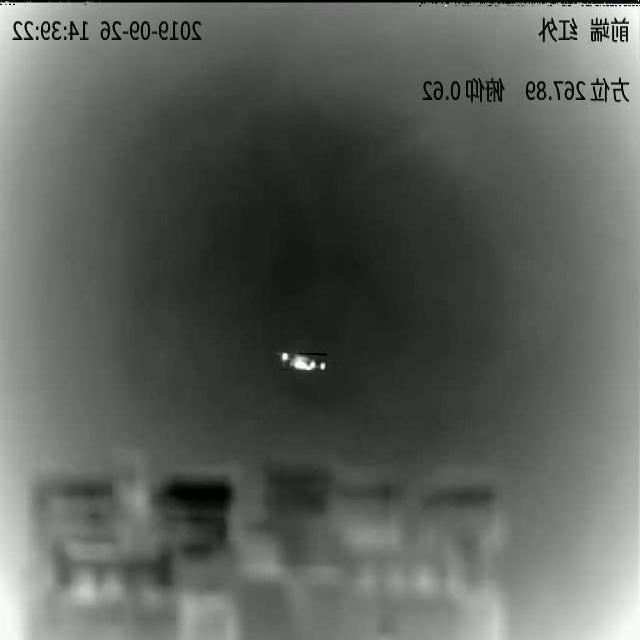drone: (281, 353, 326, 370)
